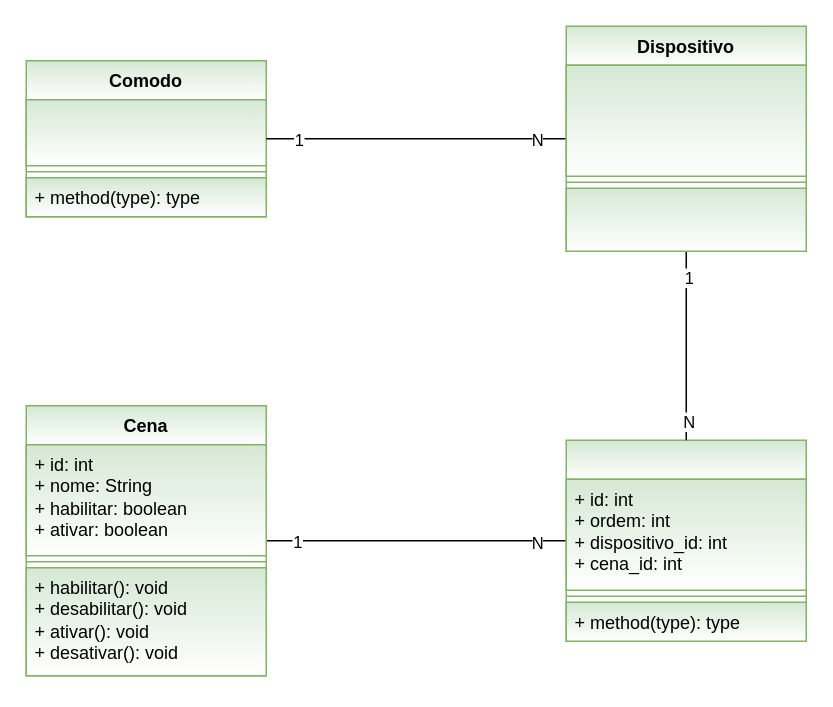
The diagram is 833 pixels wide and 707 high, and some of its shapes have lost their labels. Here are the shapes that lost their labels. From the top down, the box of each, then its label:
(25, 98, 266, 166): + id: ind + nome: String
(565, 64, 806, 176): + id: int + nome: String + estado: boolean + comodo_id: int
(565, 187, 806, 251): + ligar(): void + desligar(): void
(565, 439, 806, 641): Acao
